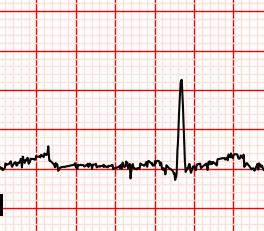Pathological Q Wave: (155, 158, 182, 185)
